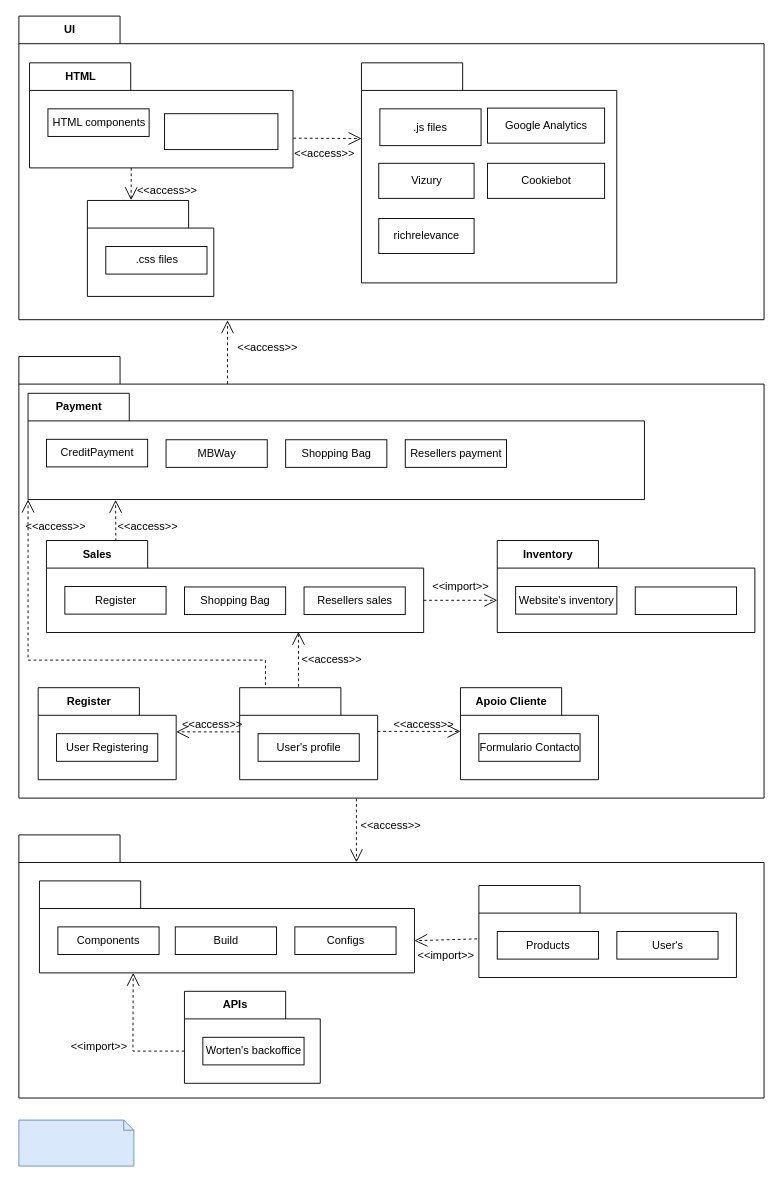
Image size: 780x1182. Some labels were removed from this diagram. Each missing label, with the box of its shape:
.html files: (164, 113, 278, 150)
AS-EX 5.2 Grupo 601 (DF, DC, ST, FC) v2022/04/06: (18, 1119, 134, 1166)
CSS: (86, 200, 214, 296)
Database: (478, 885, 736, 978)
Domain: (18, 356, 764, 798)
Foundation: (18, 834, 764, 1098)
Framework: (39, 880, 414, 973)
Javascript: (361, 62, 617, 283)
Resellers inventory: (634, 586, 736, 615)
User: (239, 687, 378, 780)
